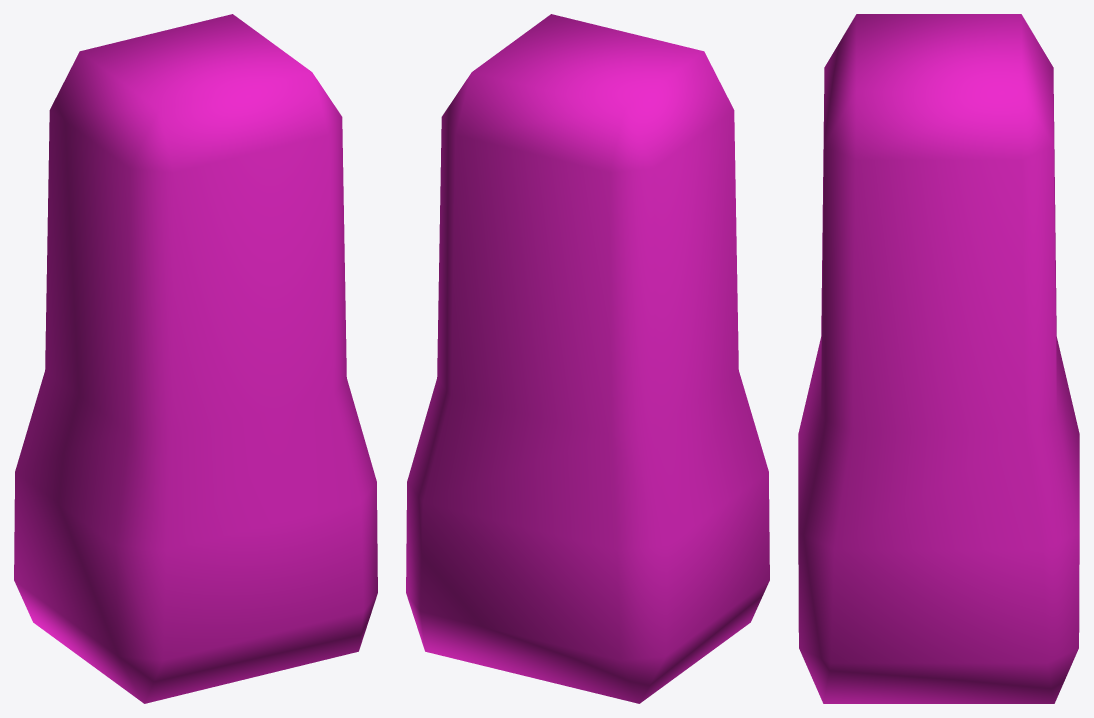
The model's file is sandalye_ayag_cilal_.fbx.
The picture shows the model from 3 angles, left to right: view 1: azimuth 30°, elevation 25°; view 2: azimuth 150°, elevation 25°; view 3: azimuth 270°, elevation 25°; orthographic projection. The views are drawn at different scales.
Parts seen in each view (by area): view 1: sandalye_ayağı_cilalı; view 2: sandalye_ayağı_cilalı; view 3: sandalye_ayağı_cilalı.
Boxes of the visible parts, <box> form: sandalye_ayağı_cilalı: <box>14,14,377,703</box>; sandalye_ayağı_cilalı: <box>406,14,769,703</box>; sandalye_ayağı_cilalı: <box>798,14,1079,703</box>.
Size of the model in its own units: 51.11 by 108 by 45.98.
